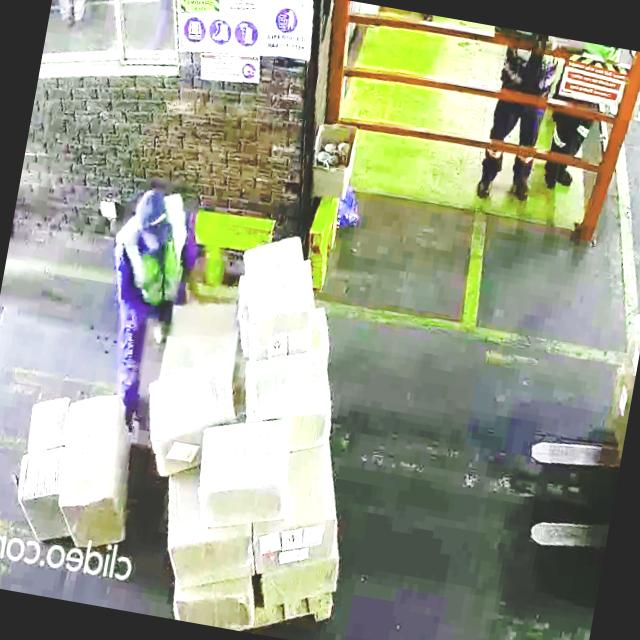Box: (193, 410, 296, 521), (54, 400, 130, 540), (235, 228, 322, 350), (240, 338, 334, 431), (144, 358, 232, 441), (256, 498, 342, 577), (168, 512, 254, 589), (254, 542, 341, 616), (172, 562, 262, 633), (12, 443, 74, 542), (23, 389, 73, 450)
